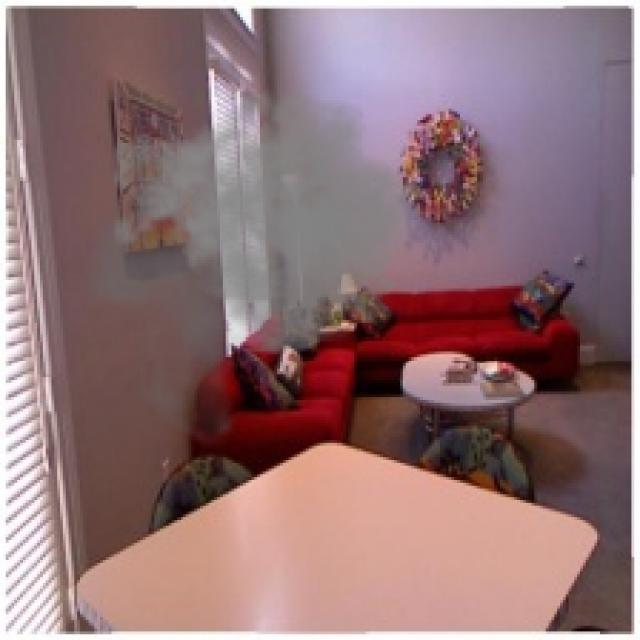Smoke: (72, 80, 434, 452)
